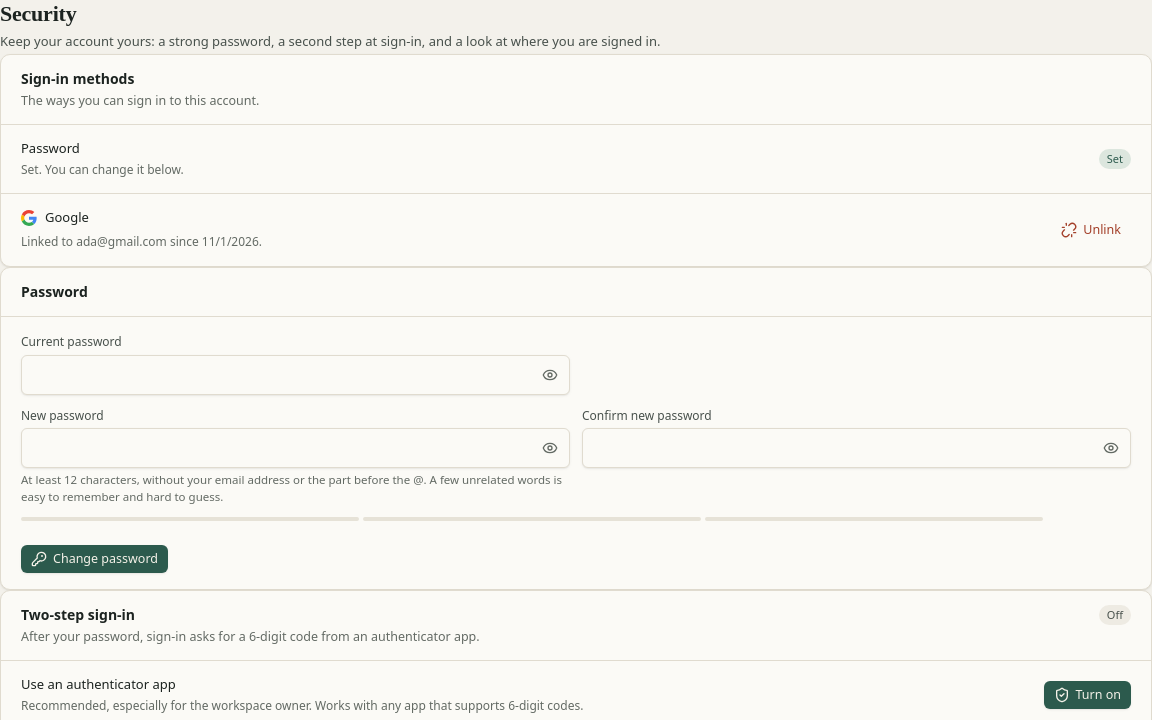
it: security settings: sign-in methods › password set, Google linked: unlinks after confirmation
Later steps or results of the test are not shown.
What coordinates should you click on to do the following:
click the button "Unlink"
I would click on:
 (1091, 230)
Its box is left=1051, top=216, right=1131, bottom=244.
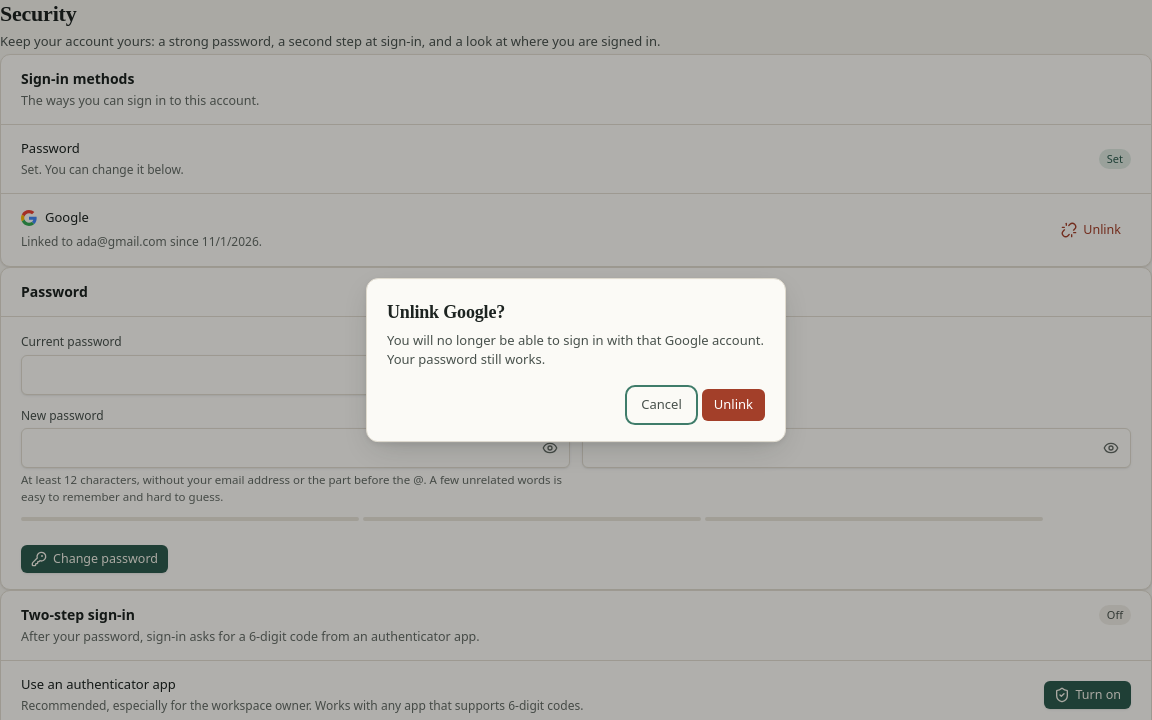
Check: the heading "Unlink Google?" is shown, box left=387, top=302, right=505, bottom=322
